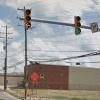Traffic light: (15, 0, 40, 36)
